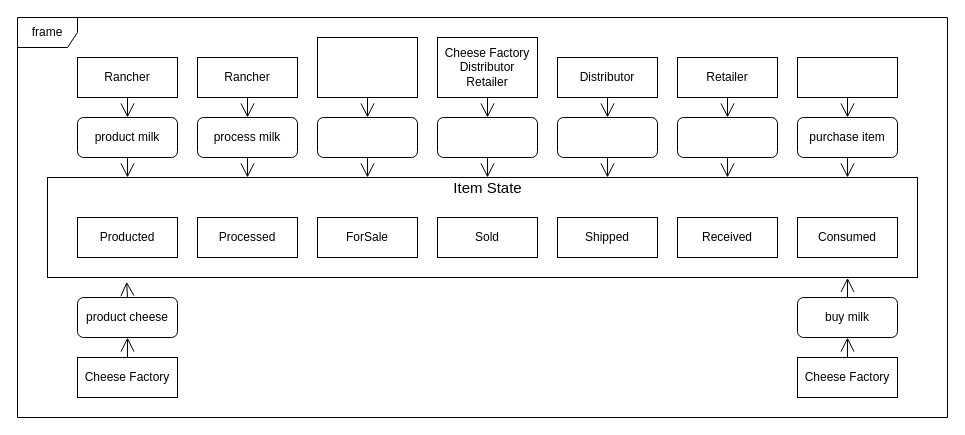
The diagram is 965 pixels wide and 435 high, and some of its shapes have lost their labels. Here are the shapes that lost their labels. From the top down, the box of each, then its label:
(316, 36, 418, 98): Rancher Cheese Factory Distributor Retailer
(796, 56, 898, 98): Consumer
(316, 116, 418, 158): sell
(436, 116, 538, 158): buy
(556, 116, 658, 158): ship item
(676, 116, 778, 158): receive item
